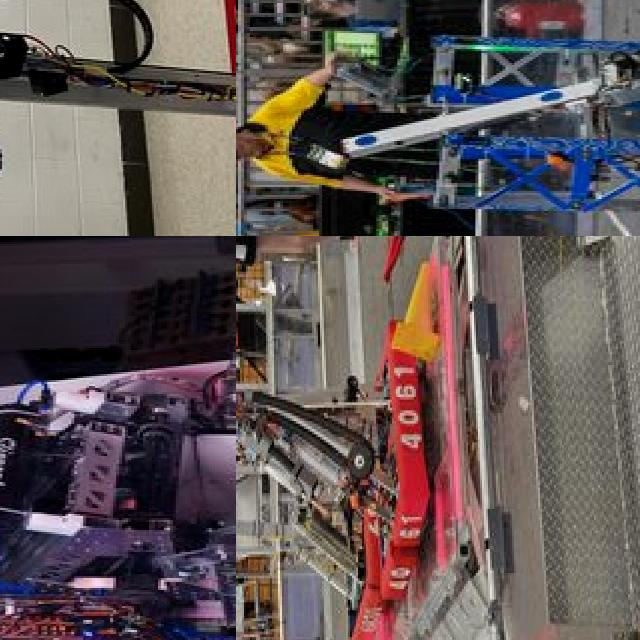FRC-Robots: (0, 253, 236, 640), (345, 0, 640, 236), (236, 311, 438, 595), (0, 0, 236, 236), (236, 408, 397, 640)
